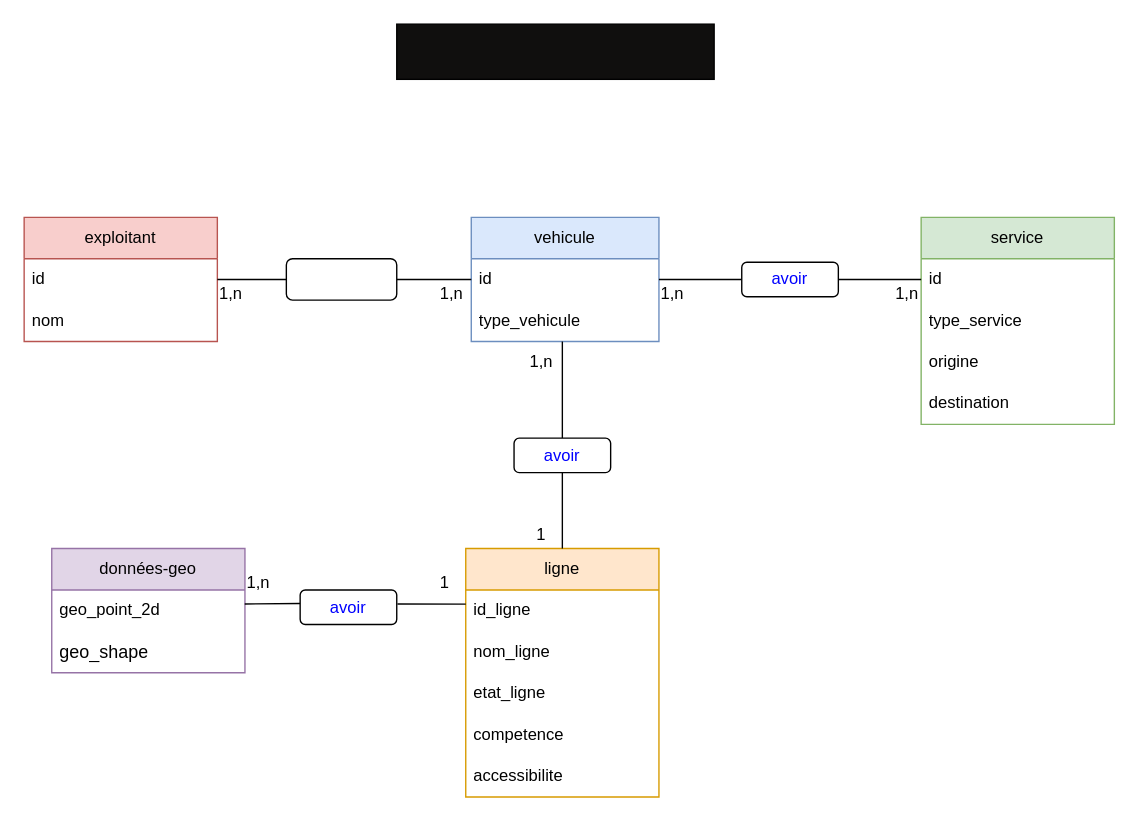
The diagram is 1139 pixels wide and 821 high, and some of its shapes have lost their labels. Here are the shapes that lost their labels. From the top down, the centre of each, then its label:
point (554, 51): MCD (version Merise)
point (341, 278): exploite
